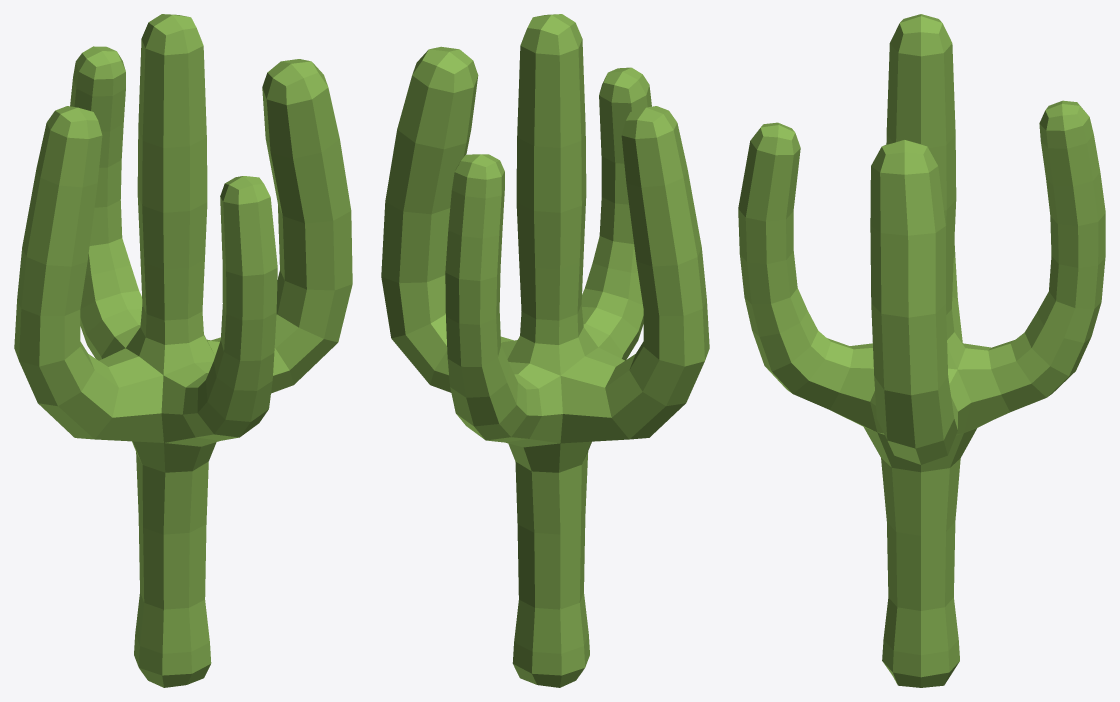
File: cactus_01.glb
The picture shows the model from 3 angles, left to right: view 1: azimuth 30°, elevation 25°; view 2: azimuth 150°, elevation 25°; view 3: azimuth 270°, elevation 25°; orthographic projection.
Parts seen in each view (by area): view 1: cactus_7.004; view 2: cactus_7.004; view 3: cactus_7.004.
Boxes of the visible parts, box(x1,y1,x2,y2) form: cactus_7.004: box(14, 14, 352, 687); cactus_7.004: box(381, 14, 709, 687); cactus_7.004: box(738, 14, 1105, 687).
Bounding box in the file's own units: 0.9844 × 1.92 × 0.9677.
